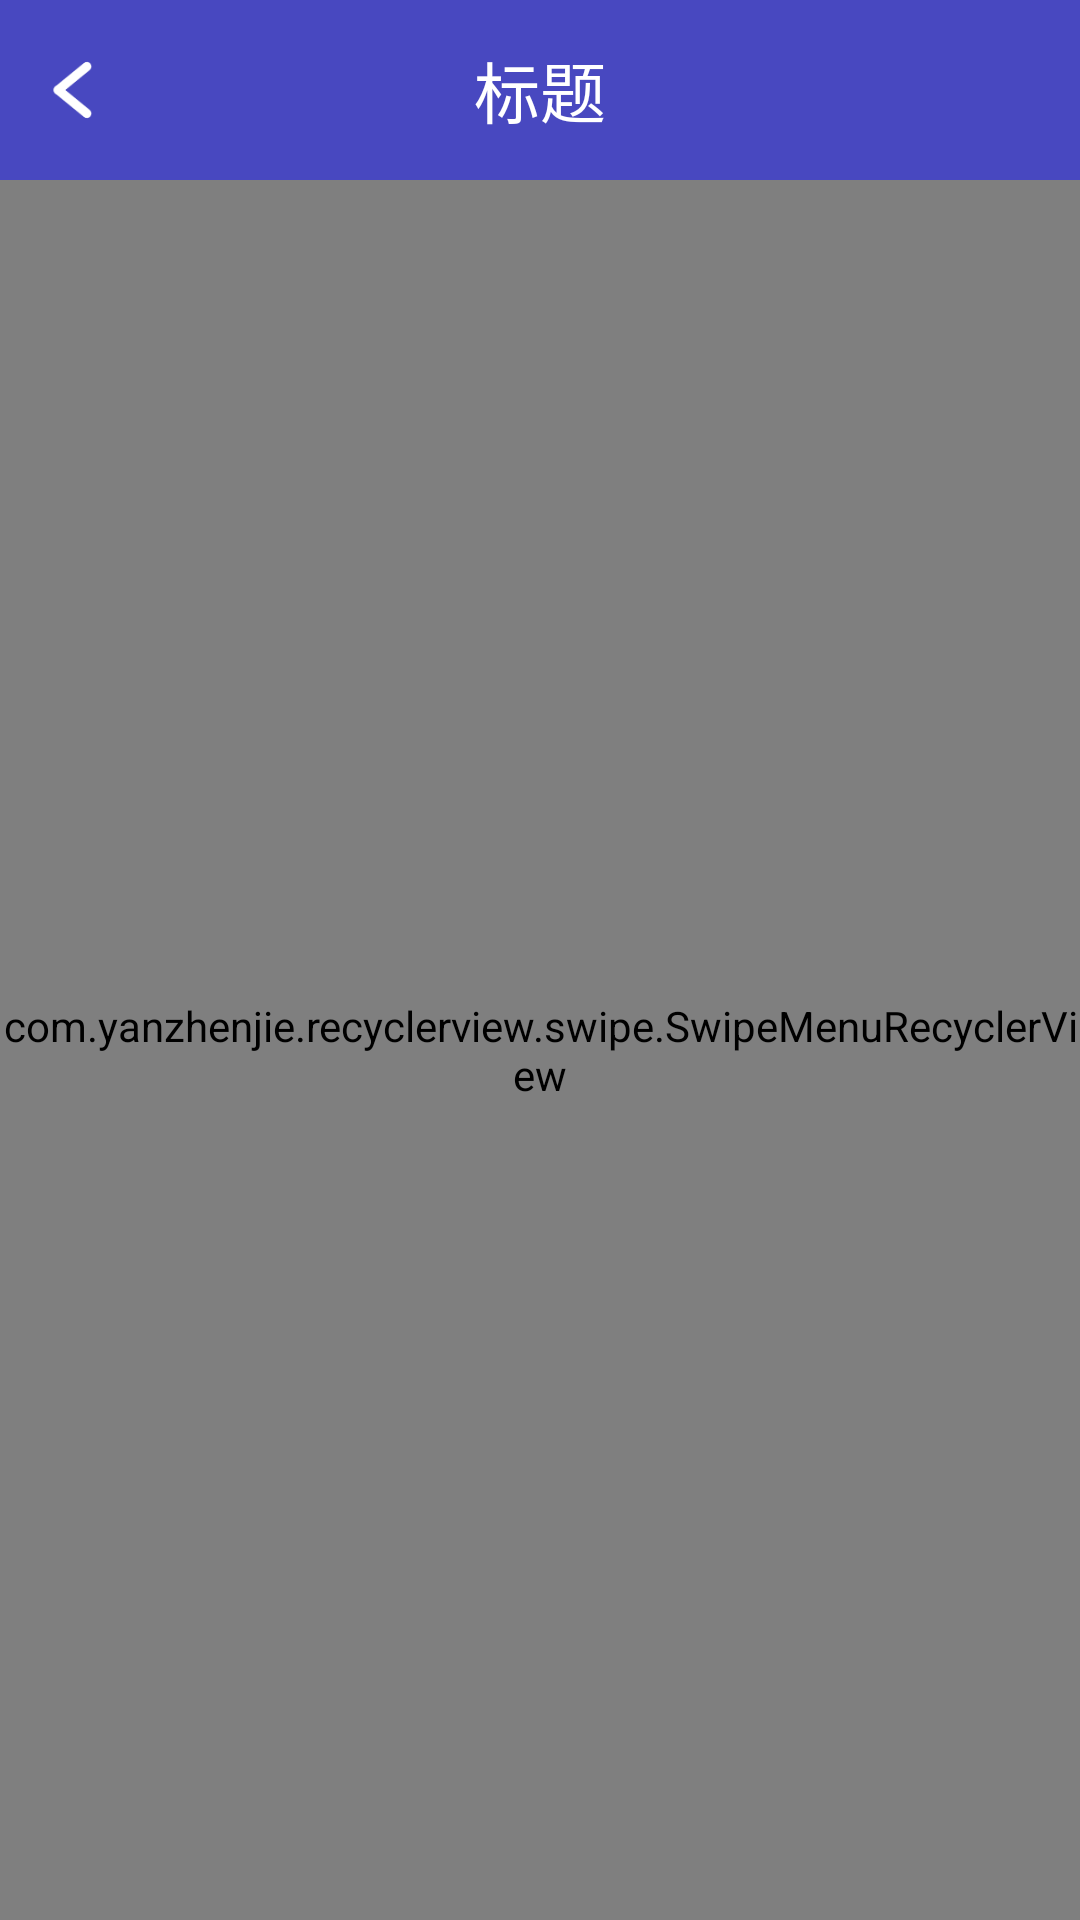

Icon bounding boxes for this 1080px×1920px phone screenshot, format (x1, y1, x2, y2):
back: (53, 62, 92, 118)
